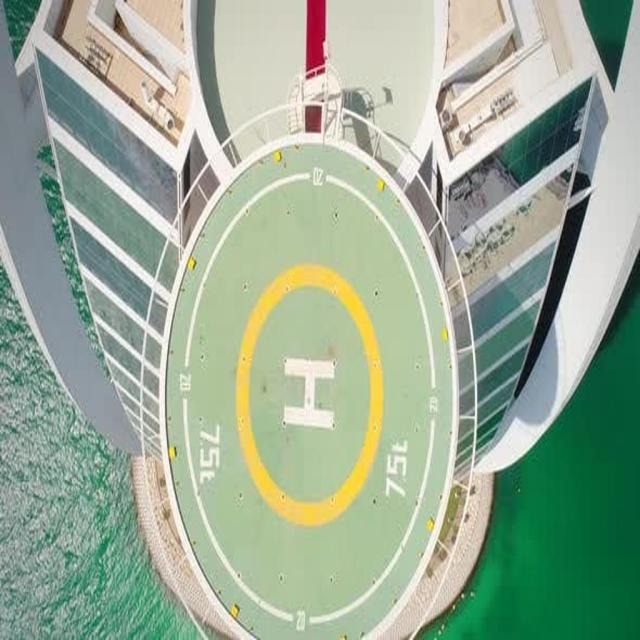helipad: (235, 263, 385, 528)
